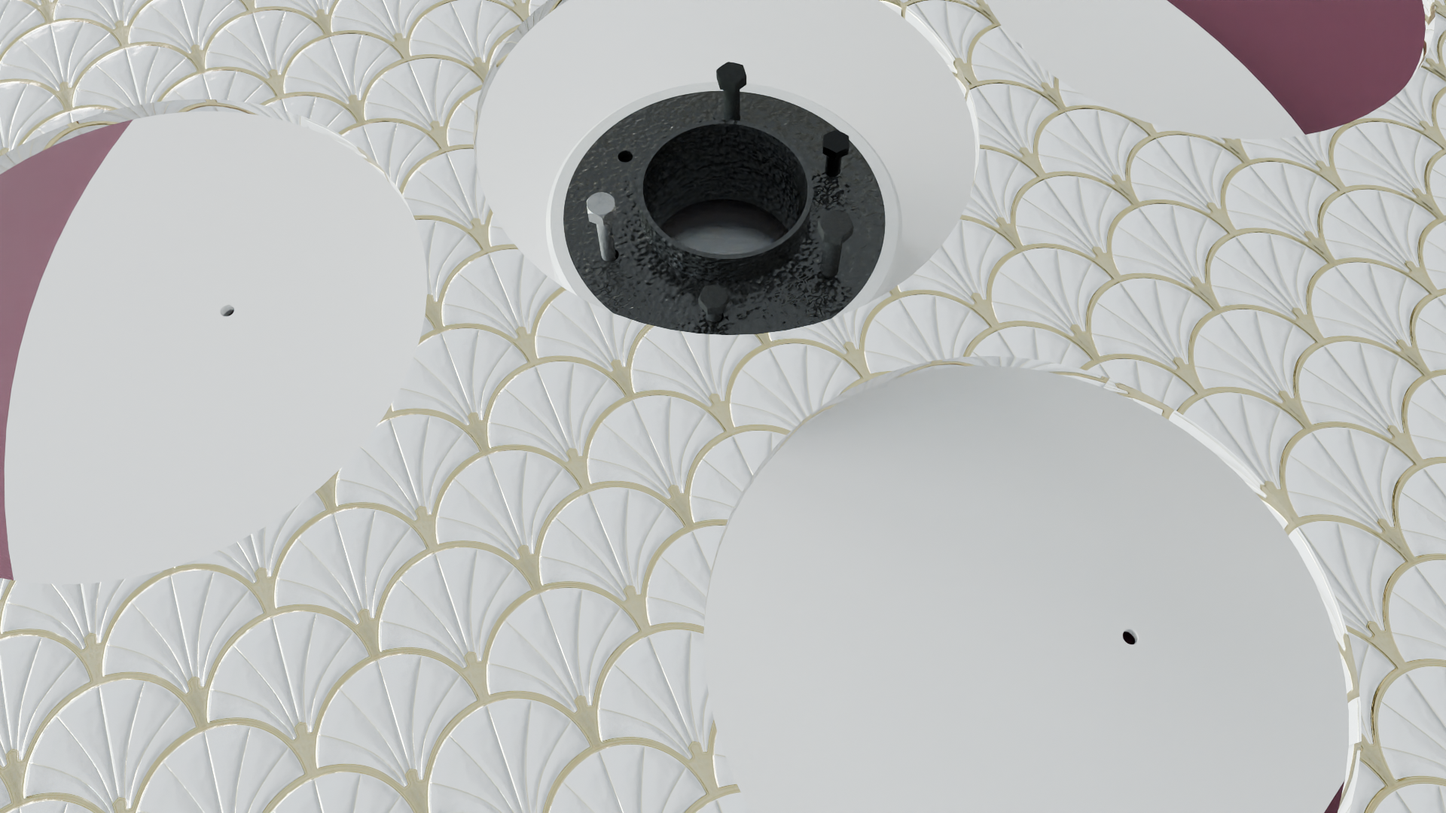bolt: (819, 210, 853, 238), (587, 192, 616, 218), (699, 285, 729, 309), (716, 62, 746, 84), (823, 130, 850, 153), (602, 220, 603, 221)
